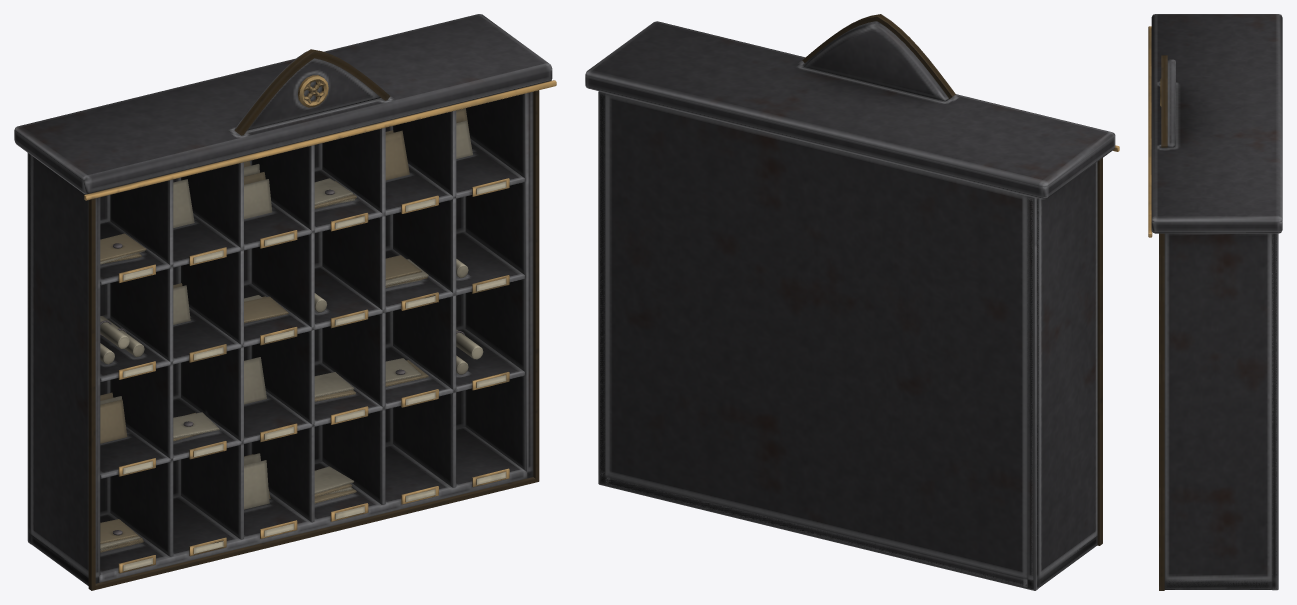
The model's file is Pigeonholes.fbx.
3 views of the same model, side by side, from view 1: azimuth 30°, elevation 25°; view 2: azimuth 150°, elevation 25°; view 3: azimuth 270°, elevation 25° (orthographic). The views are drawn at different scales.
Parts seen in each view (by area): view 1: Pigeonholes; view 2: Pigeonholes; view 3: Pigeonholes.
Boxes of the visible parts, <box> form: Pigeonholes: <box>14,14,556,590</box>; Pigeonholes: <box>585,14,1119,590</box>; Pigeonholes: <box>1148,14,1282,590</box>.
Size of the model in its own units: 382 by 375 by 105.
